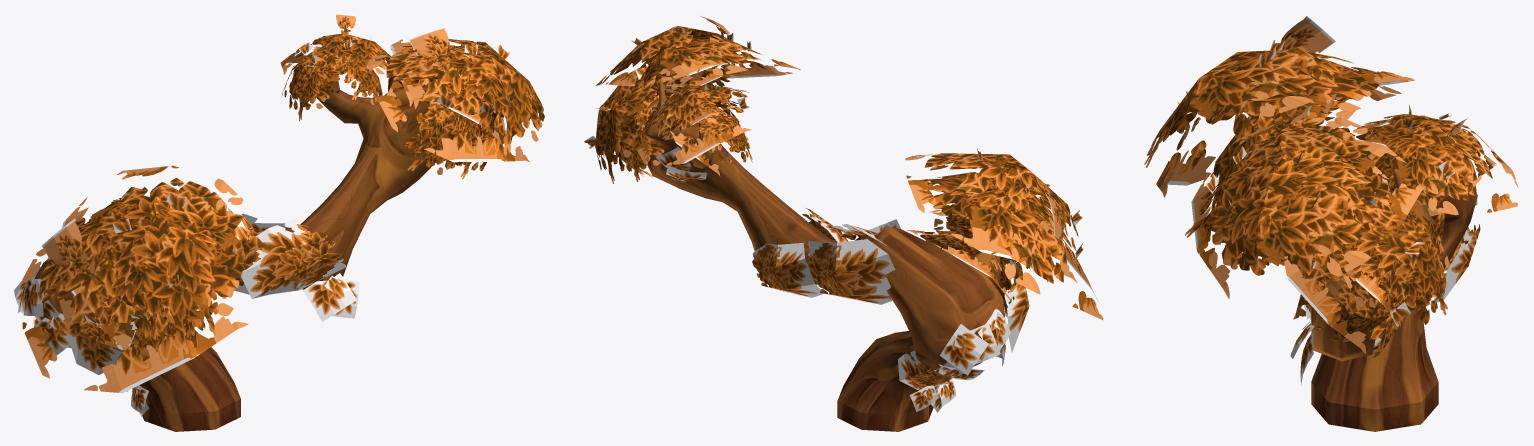
Rendered from 3_Cafe.fbx.
3 renders of one model, left to right at view 1: azimuth 30°, elevation 25°; view 2: azimuth 150°, elevation 25°; view 3: azimuth 270°, elevation 25°, orthographic. The views are drawn at different scales.
Parts seen in each view (by area): view 1: 3_Cafe; view 2: 3_Cafe; view 3: 3_Cafe.
Boxes of the visible parts, box(x1,y1,x2,y2) form: 3_Cafe: box(14, 14, 544, 431); 3_Cafe: box(584, 16, 1103, 431); 3_Cafe: box(1144, 16, 1518, 431).
Size of the model in its own units: 755 by 493 by 406.
